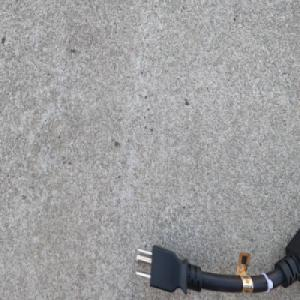Wire: (133, 227, 300, 295)
